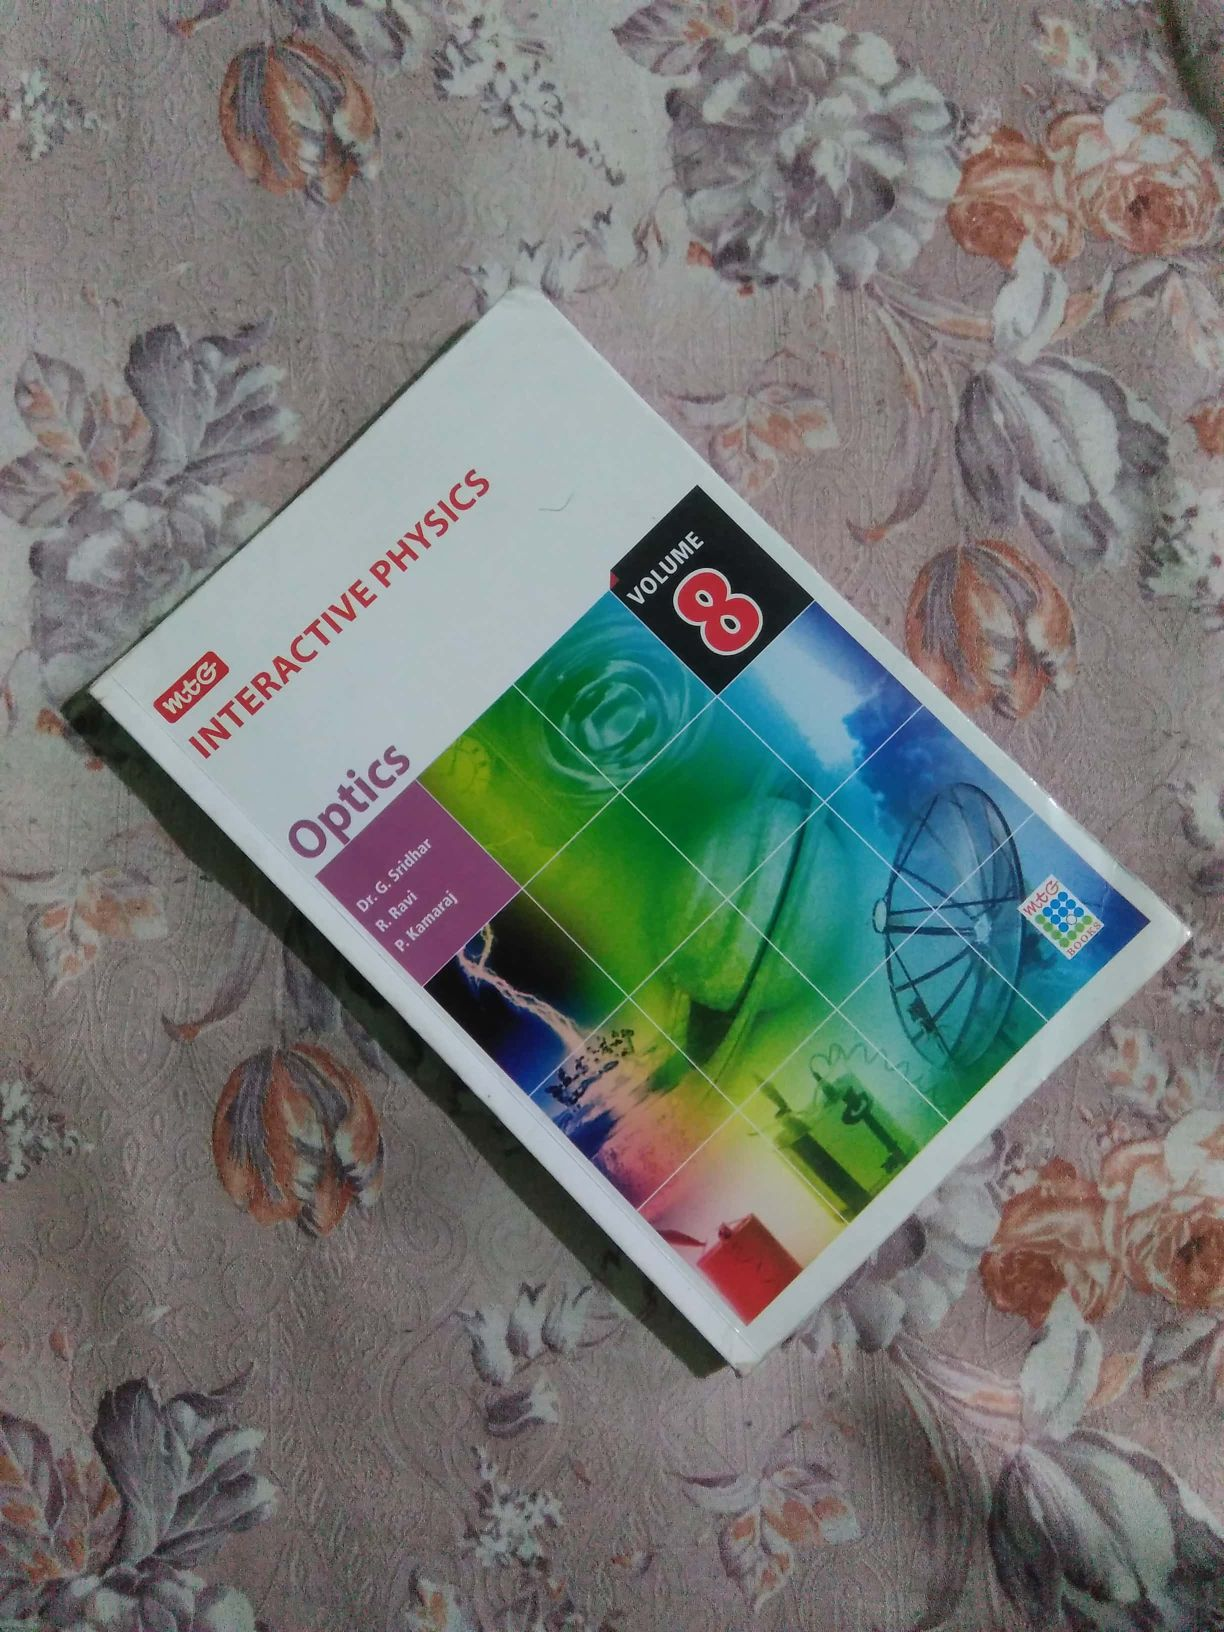optics: (60, 307, 1224, 1371)
